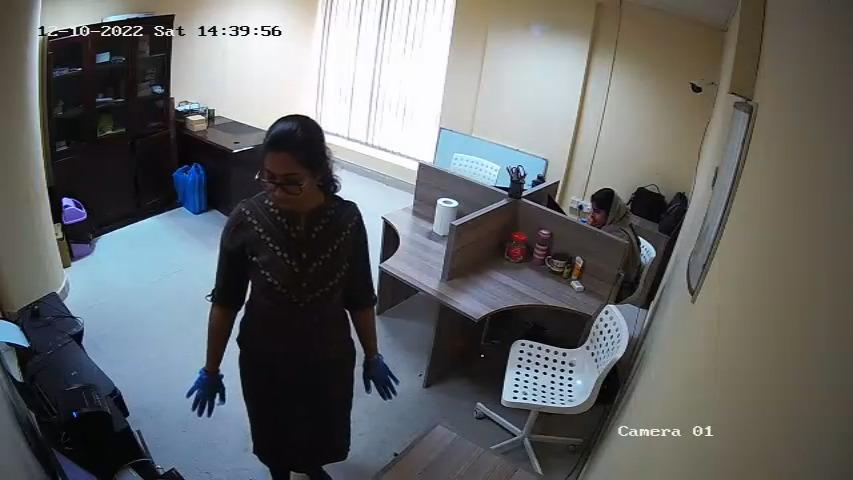gloves: (184, 370, 229, 419), (359, 354, 403, 403)
